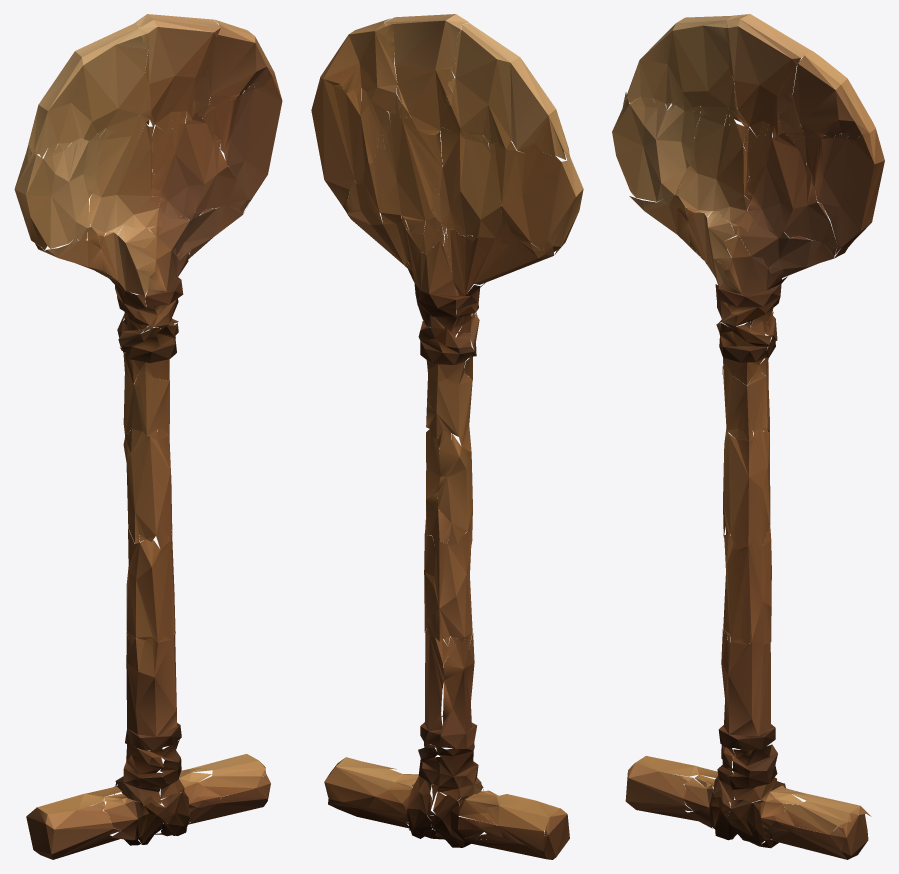
The model's file is shovel.glb.
The picture shows the model from 3 angles, left to right: view 1: azimuth 30°, elevation 25°; view 2: azimuth 150°, elevation 25°; view 3: azimuth 330°, elevation 25°; orthographic projection.
Visible parts, largest first — view 1: 0_woodShovel; view 2: 0_woodShovel; view 3: 0_woodShovel.
Part boxes in pixels (x1=…): 0_woodShovel: x1=14, y1=14, x2=282, y2=859; 0_woodShovel: x1=311, y1=14, x2=583, y2=859; 0_woodShovel: x1=612, y1=14, x2=884, y2=859.
Size of the model in its own units: 0.3118 by 0.94 by 0.0715.
